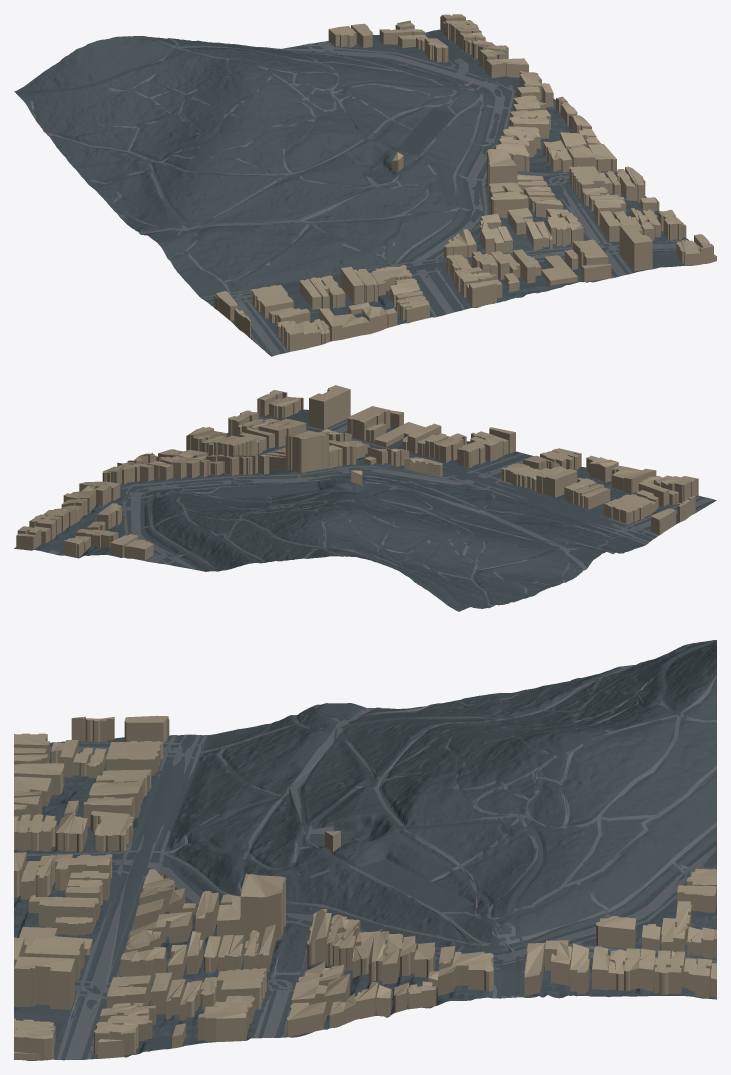
File: epsg26910-1430-10886.lod0.glb
The picture shows the model from 3 angles, top to bottom: view 1: azimuth 30°, elevation 25°; view 2: azimuth 150°, elevation 25°; view 3: azimuth 270°, elevation 25°; orthographic projection. The views are drawn at different scales.
Visible parts, largest first — view 1: epsg26910-1430-10886-lod0; view 2: epsg26910-1430-10886-lod0; view 3: epsg26910-1430-10886-lod0.
Part boxes in pixels (x1,y1,x2,y2): epsg26910-1430-10886-lod0: (14, 14, 716, 356); epsg26910-1430-10886-lod0: (14, 385, 716, 611); epsg26910-1430-10886-lod0: (14, 640, 716, 1060).
Size of the model in its own units: 384 by 99.76 by 384.
